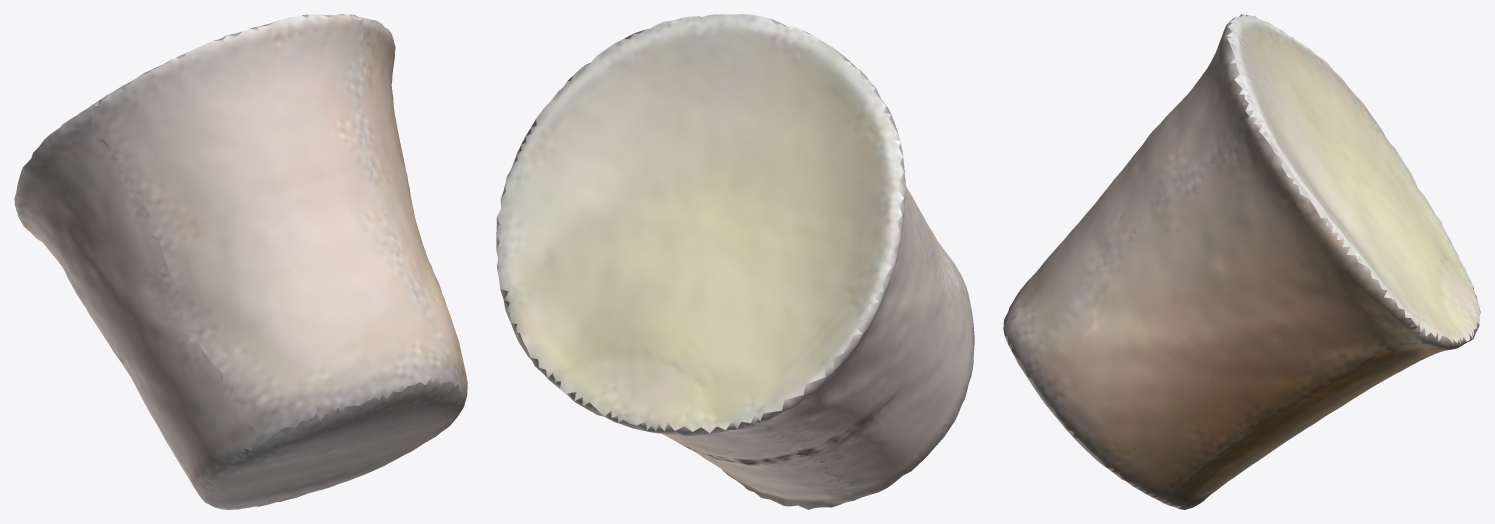
Rendered from generated_original_mesh.glb.
The picture shows the model from 3 angles, left to right: view 1: azimuth 30°, elevation 25°; view 2: azimuth 150°, elevation 25°; view 3: azimuth 270°, elevation 25°; orthographic projection. The views are drawn at different scales.
Visible parts, largest first — view 1: world; view 2: world; view 3: world.
Boxes of the visible parts, box(x1,y1,x2,y2) form: world: box(14, 14, 467, 509); world: box(496, 14, 974, 509); world: box(1003, 14, 1480, 509).
Size of the model in its own units: 0.5623 by 0.7009 by 0.6666.
1 material, 1 textured.
